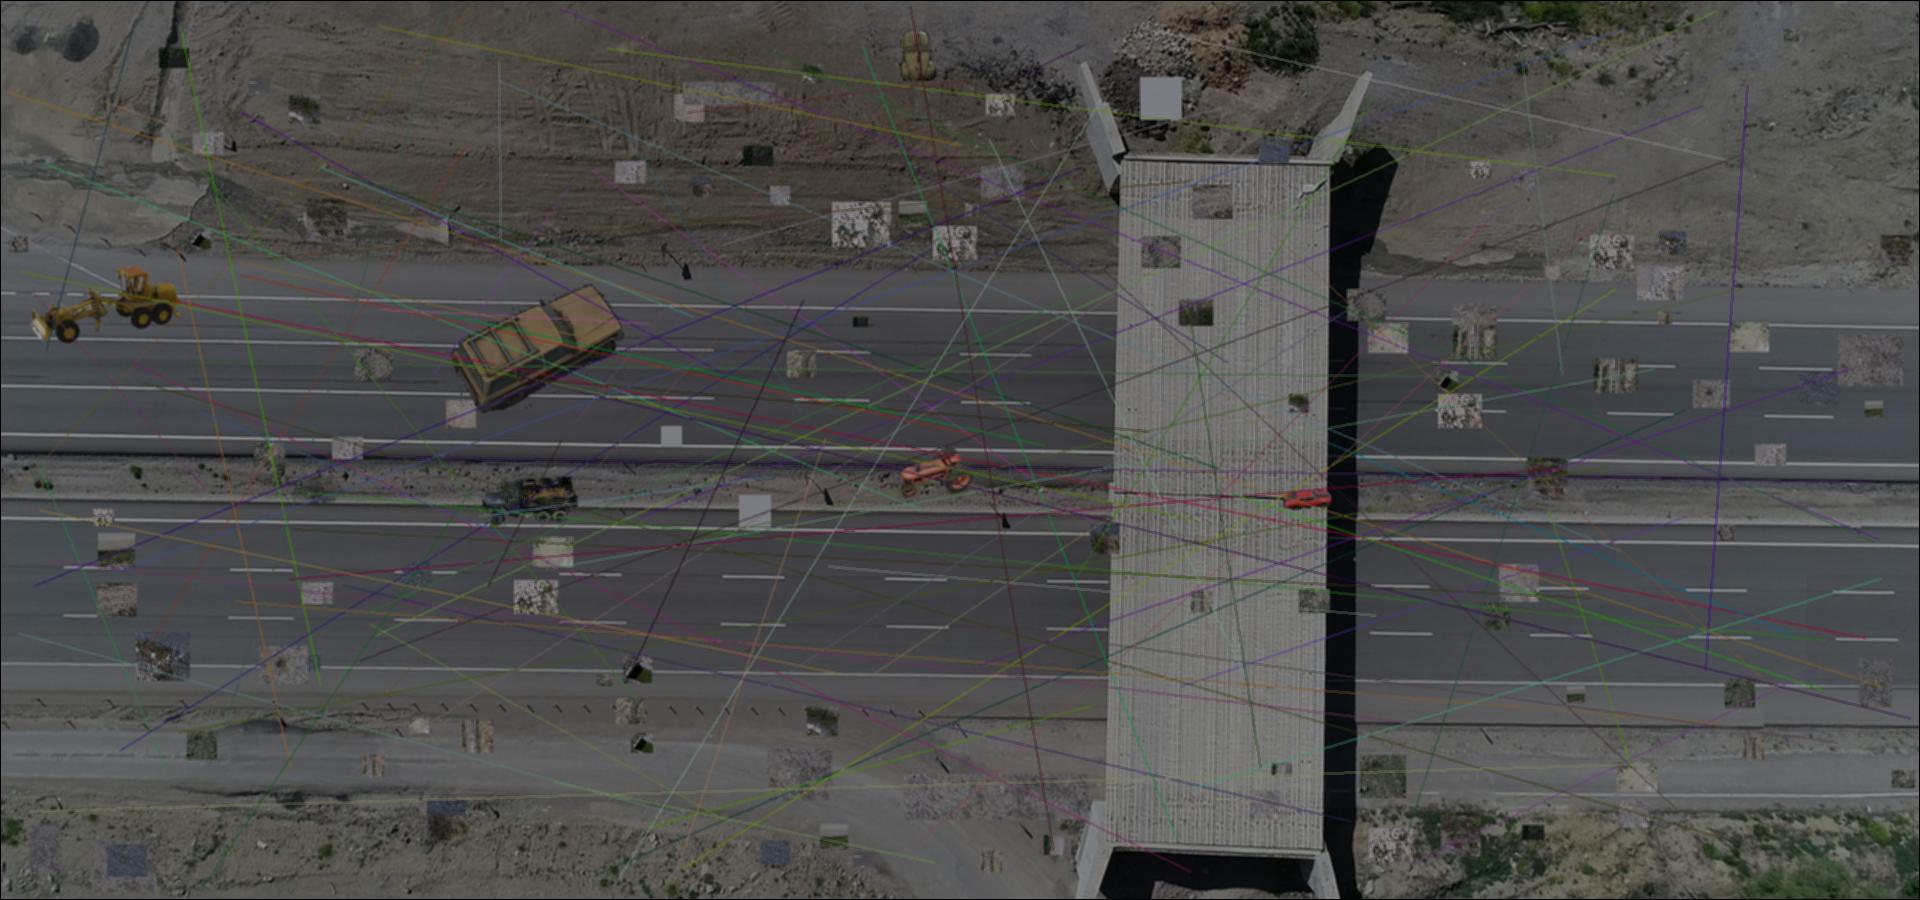arac: (447, 279, 627, 413), (28, 264, 185, 345), (482, 474, 579, 527), (896, 447, 976, 500), (900, 29, 937, 81), (1282, 489, 1333, 509)
